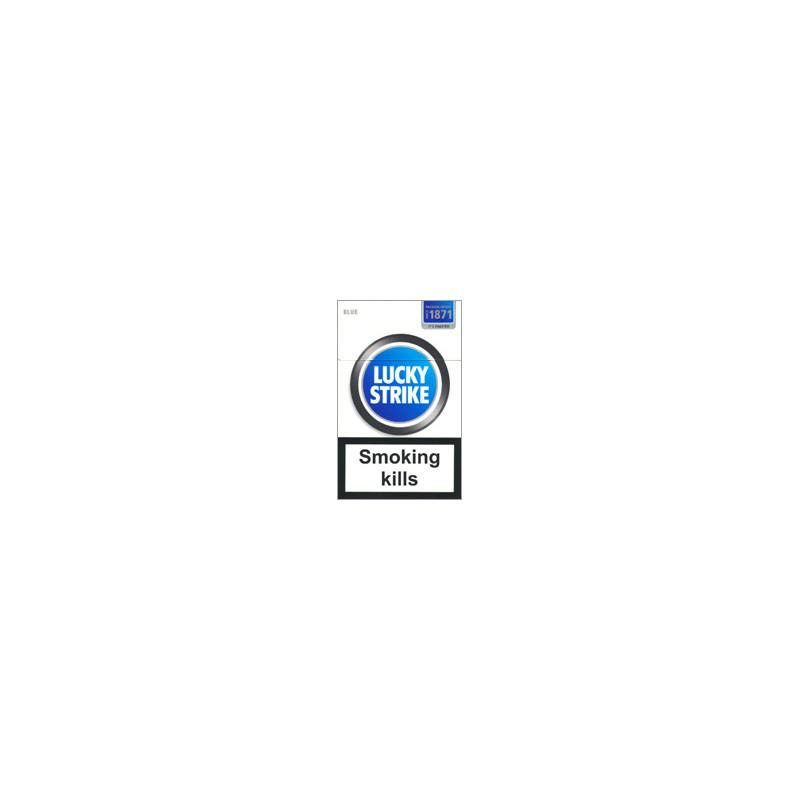lucky_strike_blue: (337, 302, 461, 496)
